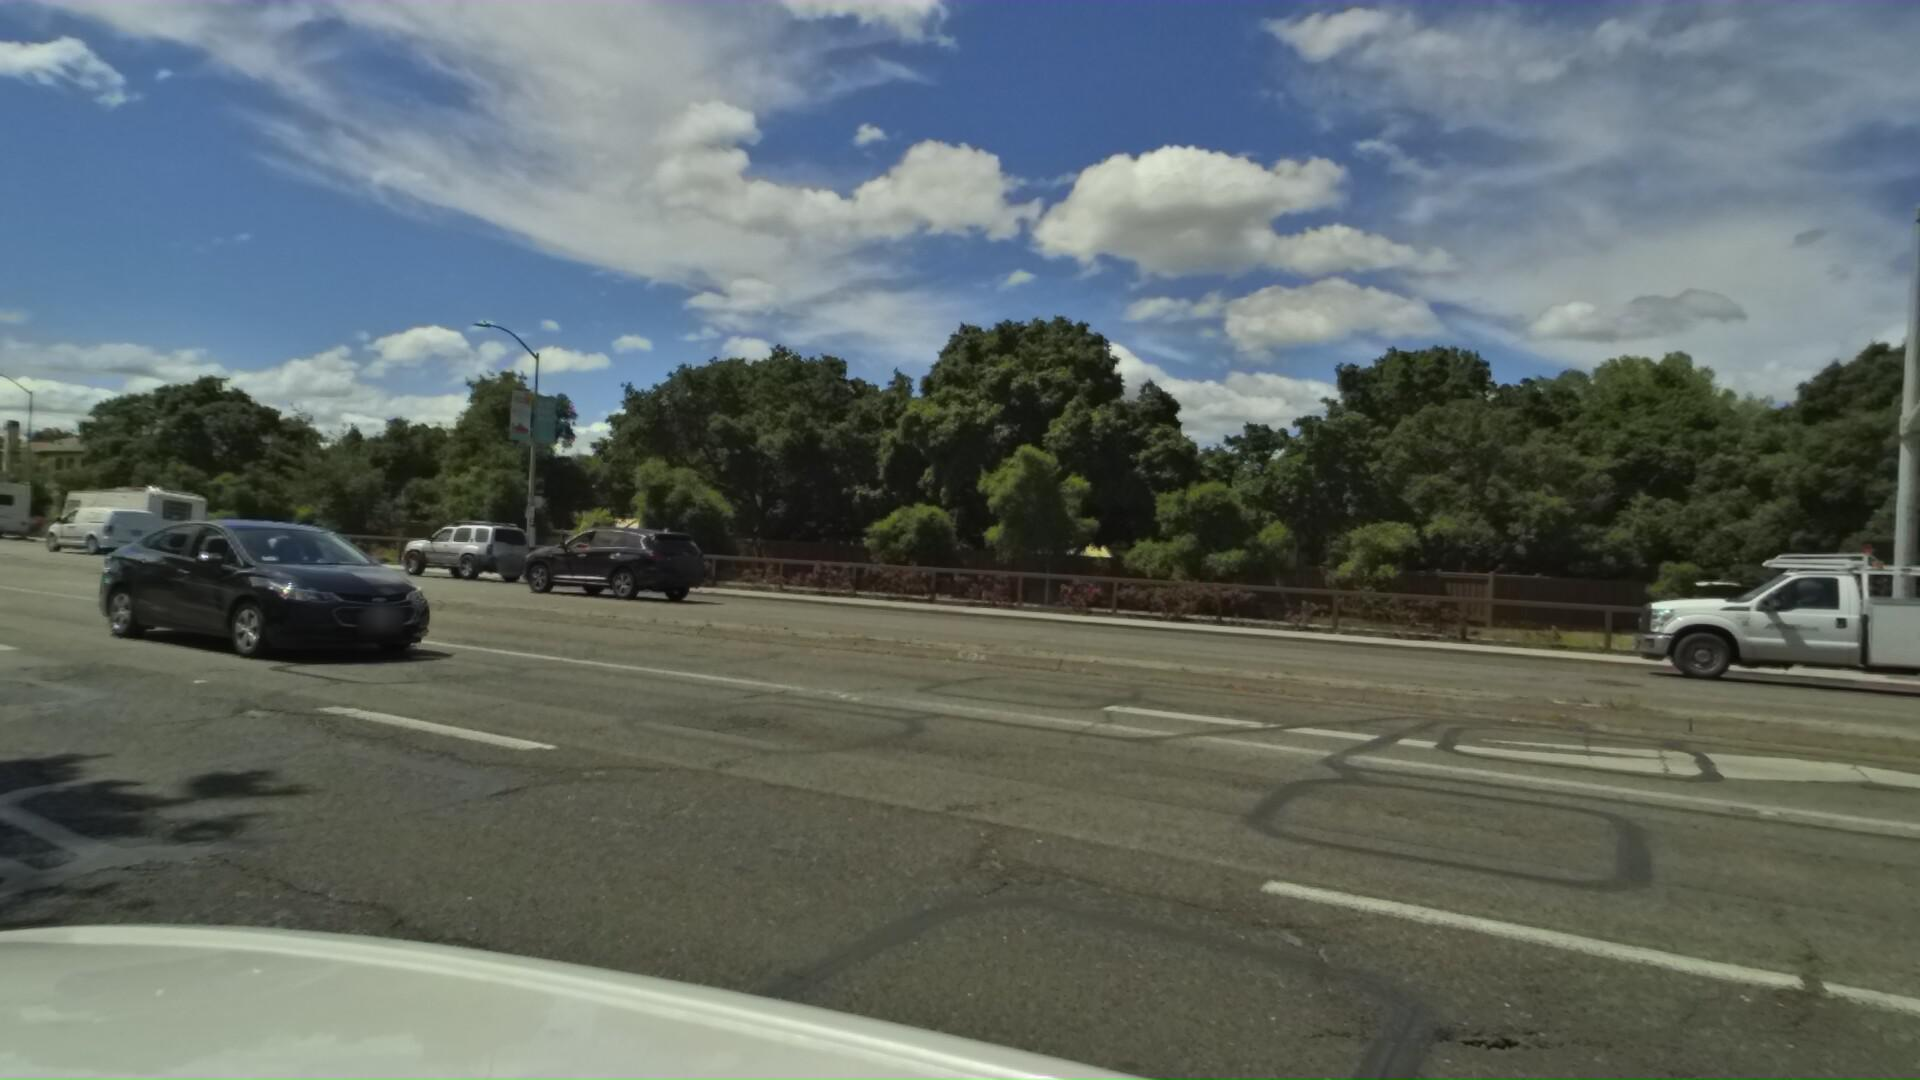bus: (51, 476, 218, 558), (0, 465, 45, 542)
car: (1567, 517, 1920, 705), (79, 509, 462, 670), (493, 516, 698, 603), (377, 516, 531, 582), (26, 496, 169, 560), (233, 522, 332, 566)
